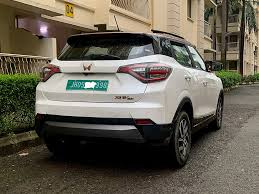XUV 400: (31, 15, 225, 171)
